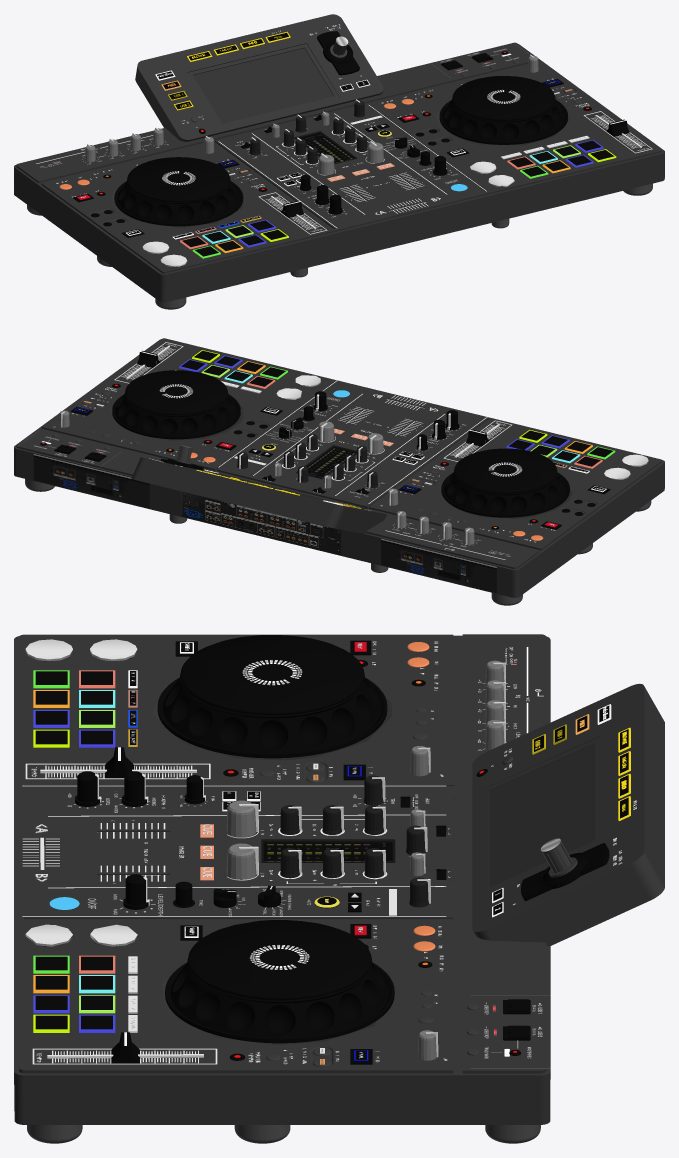
The model's file is demo-controller.glb.
The picture shows the model from 3 angles, top to bottom: view 1: azimuth 30°, elevation 25°; view 2: azimuth 150°, elevation 25°; view 3: azimuth 270°, elevation 25°; orthographic projection. The views are drawn at different scales.
Parts seen in each view (by area): view 1: part_1, part_24, part_25, part_79, part_0, part_2, part_6, part_17, part_3, part_80, part_23, part_70 (+4 smaller); view 2: part_1, part_24, part_25, part_83, part_81, part_2, part_0, part_6, part_17, part_80, part_70, part_3 (+5 smaller); view 3: part_1, part_24, part_25, part_2, part_0, part_79, part_6, part_17, part_3, part_80, part_70, part_23 (+10 smaller).
Boxes of the visible parts, x1=… form: part_1: x1=14, y1=14, x2=664, y2=302; part_24: x1=127, y1=76, x2=555, y2=202; part_25: x1=114, y1=98, x2=567, y2=226; part_79: x1=193, y1=48, x2=333, y2=123; part_0: x1=56, y1=24, x2=652, y2=236; part_2: x1=85, y1=54, x2=538, y2=175; part_6: x1=182, y1=140, x2=613, y2=256; part_17: x1=142, y1=161, x2=514, y2=266; part_3: x1=300, y1=155, x2=447, y2=214; part_80: x1=27, y1=183, x2=652, y2=309; part_23: x1=317, y1=31, x2=359, y2=75; part_70: x1=294, y1=131, x2=356, y2=164; part_1: x1=14, y1=338, x2=664, y2=597; part_24: x1=125, y1=370, x2=557, y2=493; part_25: x1=112, y1=393, x2=569, y2=517; part_83: x1=33, y1=454, x2=496, y2=593; part_81: x1=181, y1=491, x2=341, y2=555; part_2: x1=59, y1=410, x2=474, y2=544; part_0: x1=53, y1=342, x2=585, y2=542; part_6: x1=181, y1=350, x2=612, y2=466; part_17: x1=276, y1=375, x2=648, y2=479; part_80: x1=25, y1=479, x2=651, y2=605; part_70: x1=296, y1=445, x2=356, y2=479; part_3: x1=313, y1=391, x2=459, y2=450; part_1: x1=14, y1=634, x2=664, y2=1124; part_24: x1=180, y1=635, x2=371, y2=1000; part_25: x1=157, y1=674, x2=394, y2=1043; part_2: x1=226, y1=660, x2=505, y2=1060; part_0: x1=22, y1=641, x2=636, y2=1064; part_79: x1=489, y1=744, x2=595, y2=887; part_6: x1=35, y1=671, x2=112, y2=1029; part_17: x1=25, y1=639, x2=137, y2=946; part_3: x1=75, y1=771, x2=204, y2=909; part_80: x1=27, y1=1125, x2=540, y2=1143; part_70: x1=261, y1=839, x2=395, y2=862; part_23: x1=521, y1=843, x2=609, y2=900.
Size of the model in its own units: 0.6 by 0.1017 by 0.3753.
75 materials, 13 textured.
